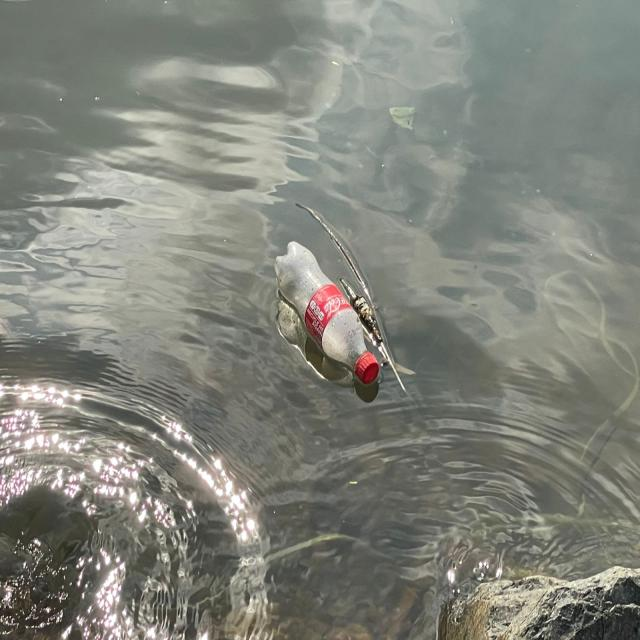Botol Plastik: (270, 235, 385, 402)
